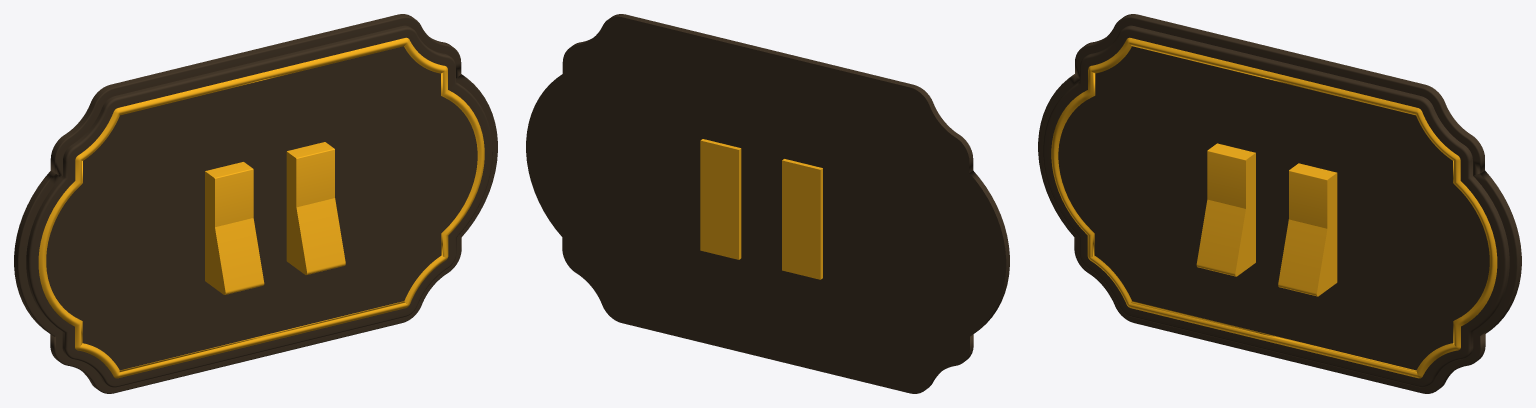
The model's file is LightSwitch Vintage.fbx.
3 views of the same model, side by side, from view 1: azimuth 30°, elevation 25°; view 2: azimuth 150°, elevation 25°; view 3: azimuth 330°, elevation 25° (orthographic).
Visible parts, largest first — view 1: Line001, Button001, Button; view 2: Line001, Button001, Button; view 3: Line001, Button001, Button.
Part boxes in pixels (x1,y1,x2,y2): Line001: (14, 14, 497, 393); Button001: (286, 142, 345, 274); Button: (205, 162, 264, 294); Line001: (526, 14, 1009, 393); Button001: (700, 139, 741, 259); Button: (782, 159, 822, 279); Line001: (1038, 14, 1521, 393); Button001: (1278, 163, 1337, 296); Button: (1196, 143, 1255, 276).
Bounding box in the file's own units: 248 × 151 × 27.58.
